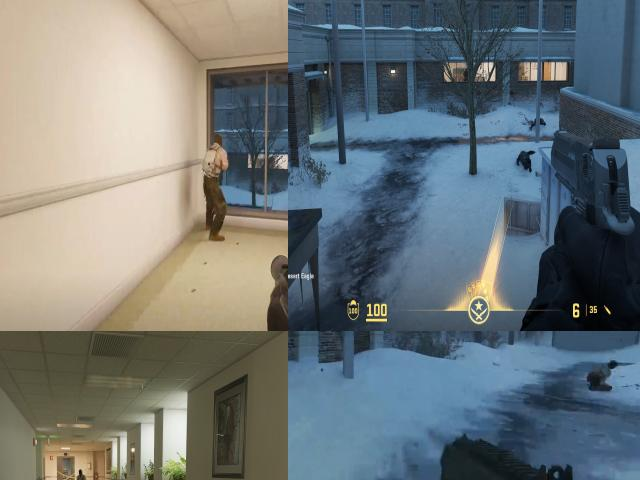CT: (464, 69, 468, 81)
CT-Head: (465, 69, 467, 72)
Dead: (580, 354, 622, 382), (515, 148, 532, 170), (530, 115, 546, 130)
T: (202, 132, 230, 186), (74, 468, 90, 480)
T-Head: (210, 134, 223, 152), (78, 468, 83, 476)
